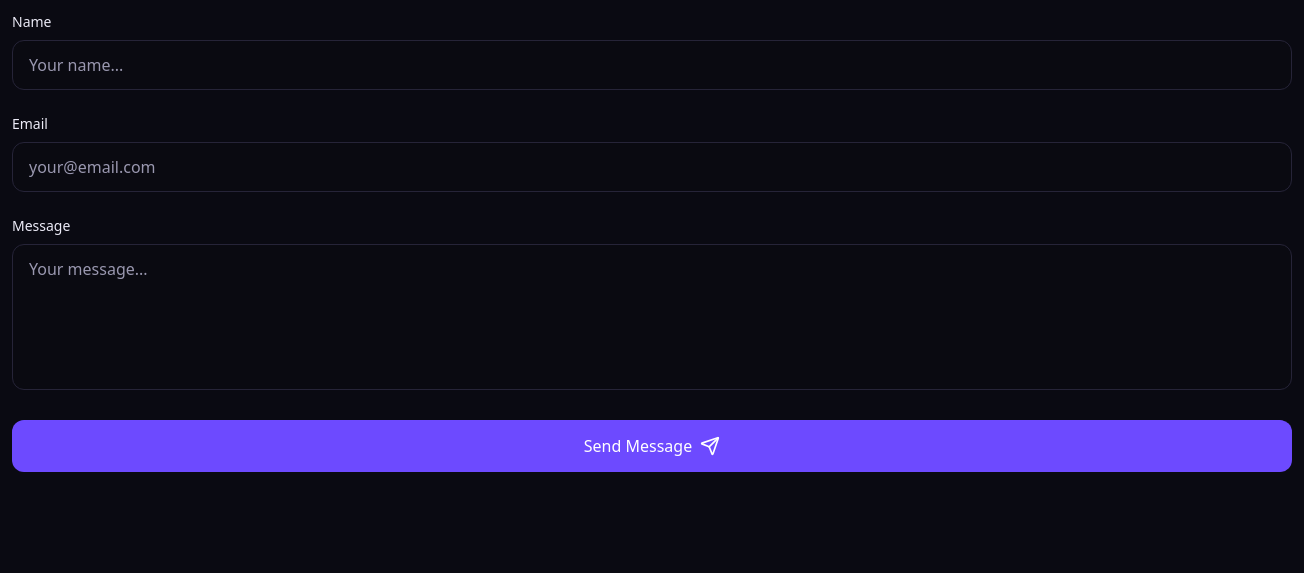
it: ContactForm › shows an error under every empty field and does not send
The width and height of the screenshot is (1304, 573).
Click the button "Send Message": (652, 446) [12, 420, 1292, 472]
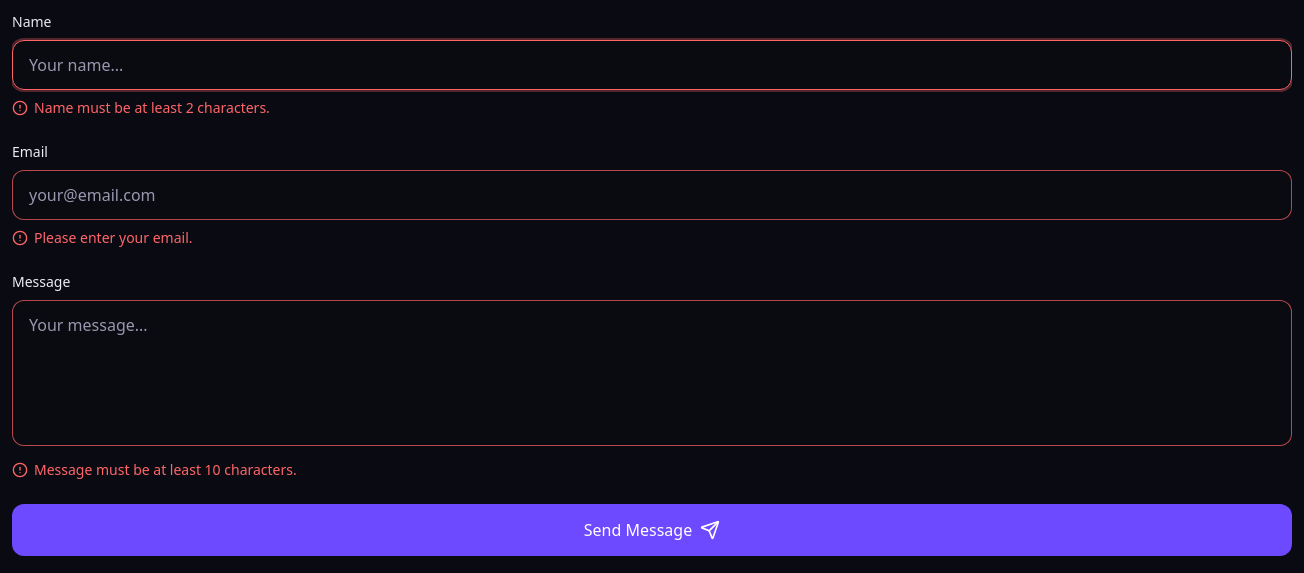
Check: the text "Please enter your email." is shown, box [12, 228, 192, 247]
